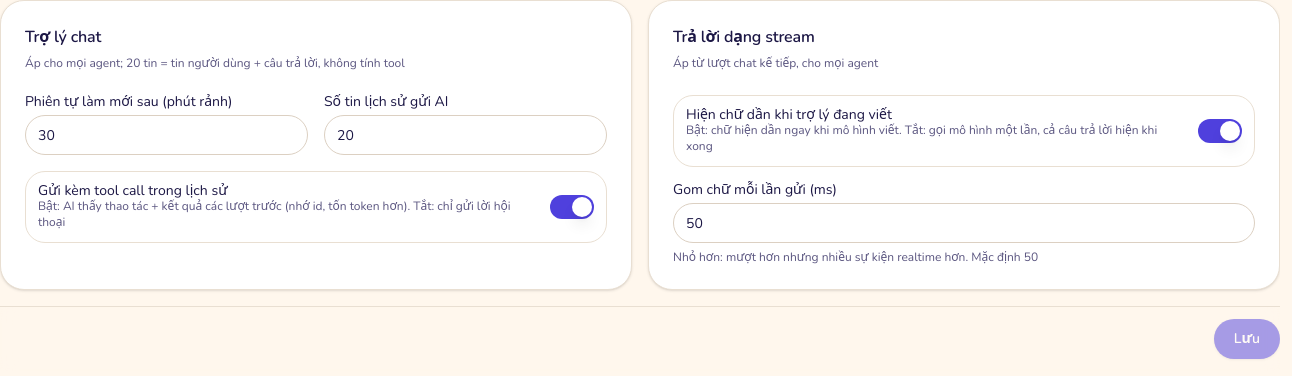
Test: AiSettingsPage › tắt stream → ô flush bị khoá; bật lại → mở
The image size is (1292, 376).
Expected: the field with test id "settings-field-chat_stream_flush_ms" is enabled, x1=673 y1=203 x2=1255 y2=243
Click the switch with test id "settings-chat-stream": [1220, 131] box x1=1198 y1=119 x2=1242 y2=143
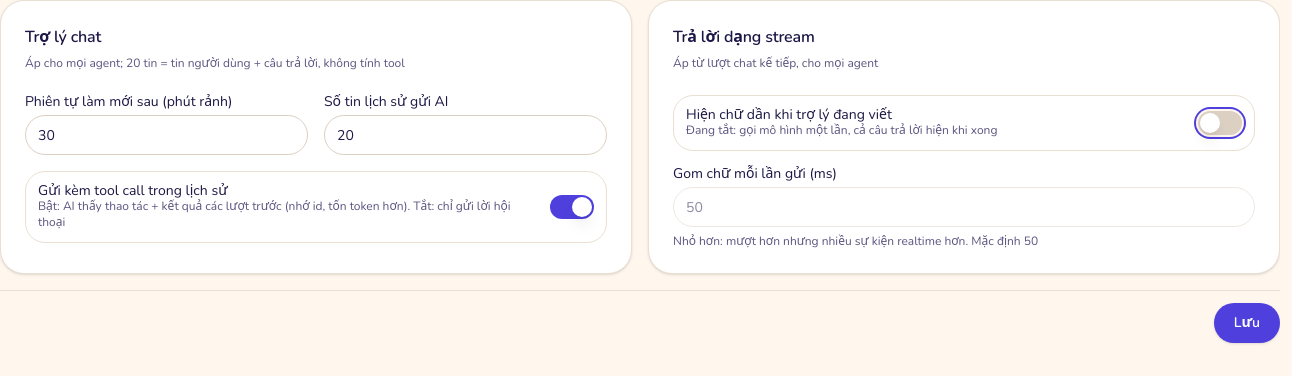
Expected: the field with test id "settings-field-chat_stream_flush_ms" is disabled, x1=673 y1=187 x2=1255 y2=227
Click the switch with test id "settings-chat-stream": [1220, 123] box x1=1198 y1=111 x2=1242 y2=135
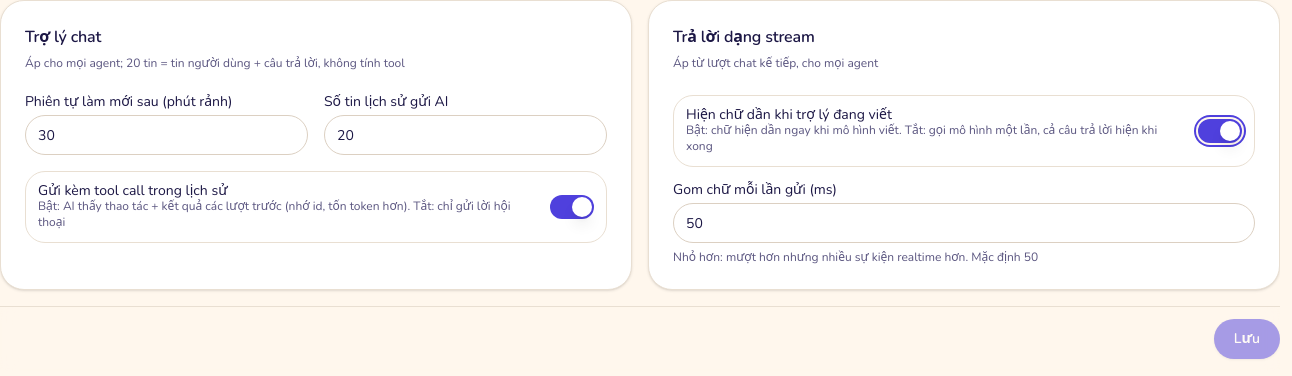
Expected: the field with test id "settings-field-chat_stream_flush_ms" is enabled, x1=673 y1=203 x2=1255 y2=243
